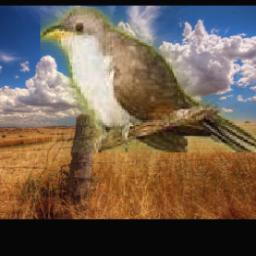Cuckoo: (40, 8, 256, 153)
